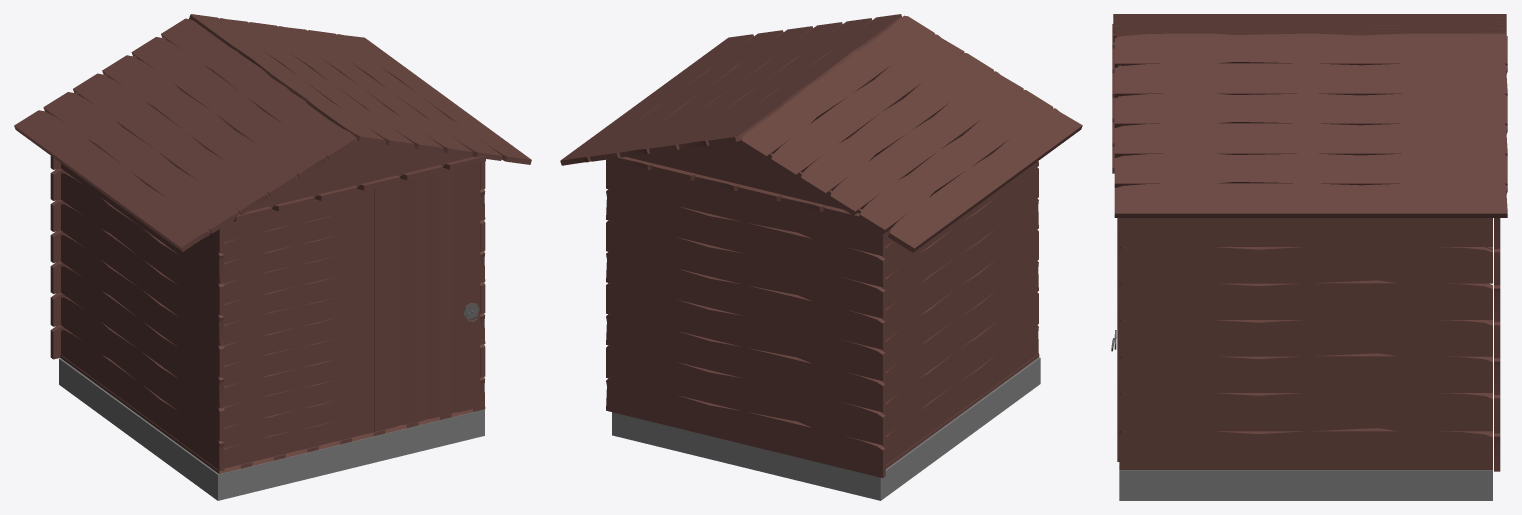
Rendered from Shed.fbx.
The picture shows the model from 3 angles, left to right: view 1: azimuth 30°, elevation 25°; view 2: azimuth 150°, elevation 25°; view 3: azimuth 270°, elevation 25°; orthographic projection. The views are drawn at different scales.
Parts seen in each view (by area): view 1: Shed, ShedDoor; view 2: Shed; view 3: Shed, ShedDoor.
Boxes of the visible parts, x1,y1,x2,y2 form: Shed: [14, 14, 531, 500]; ShedDoor: [374, 162, 480, 431]; Shed: [560, 14, 1082, 500]; Shed: [1112, 14, 1507, 500]; ShedDoor: [1111, 218, 1120, 461].
Bounding box in the file's own units: 502 × 455 × 418.
